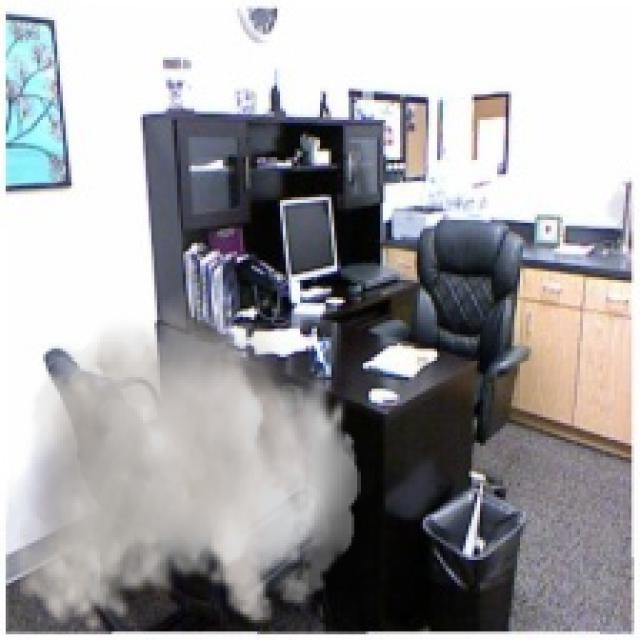smoke: (14, 274, 360, 634)
